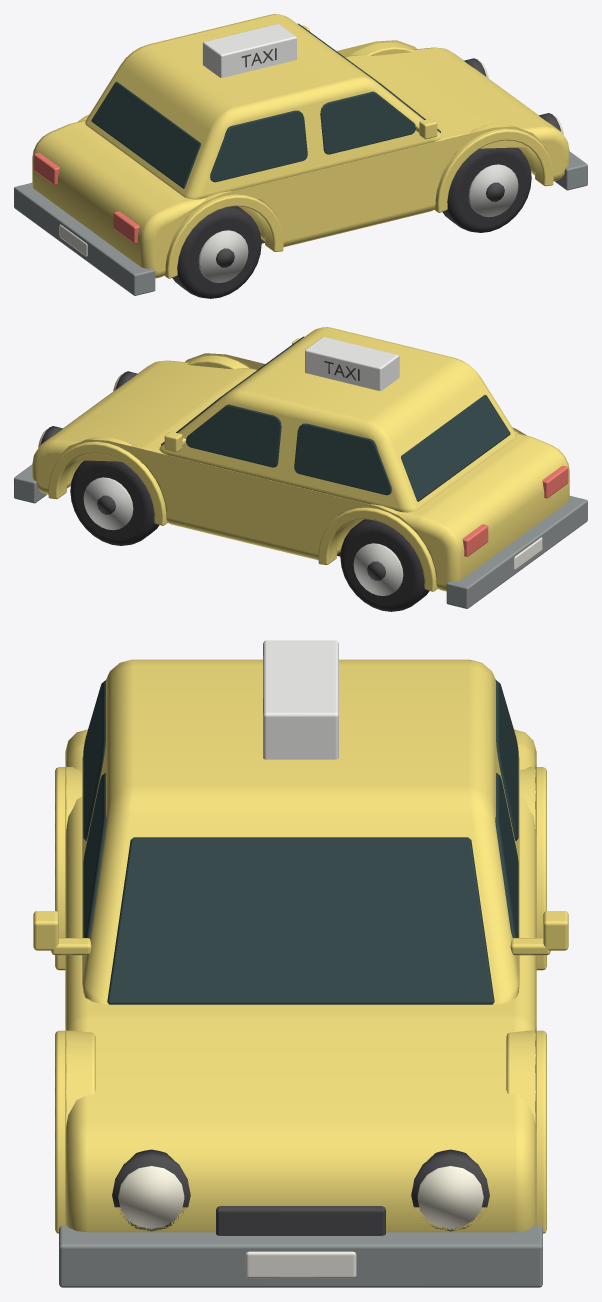
Rendered from taxi.glb.
3 views of the same model, one above another, from view 1: azimuth 30°, elevation 25°; view 2: azimuth 150°, elevation 25°; view 3: azimuth 270°, elevation 25° (orthographic). The views are drawn at different scales.
Visible parts, largest first — view 1: taxi_body, taxi_trim, taxi_glass, taxi_wheels, taxi_round; view 2: taxi_body, taxi_trim, taxi_glass, taxi_wheels, taxi_round; view 3: taxi_body, taxi_glass, taxi_trim, taxi_round.
Part boxes in pixels (bbox=[...]): taxi_body: bbox=[32, 14, 569, 278]; taxi_trim: bbox=[14, 24, 587, 295]; taxi_glass: bbox=[91, 23, 440, 188]; taxi_wheels: bbox=[172, 147, 531, 298]; taxi_round: bbox=[198, 58, 563, 282]; taxi_body: bbox=[32, 327, 569, 591]; taxi_trim: bbox=[14, 337, 587, 608]; taxi_glass: bbox=[161, 336, 510, 501]; taxi_wheels: bbox=[70, 460, 429, 611]; taxi_round: bbox=[38, 371, 403, 595]; taxi_body: bbox=[65, 659, 536, 1232]; taxi_glass: bbox=[83, 679, 518, 1004]; taxi_trim: bbox=[33, 640, 568, 1287]; taxi_round: bbox=[112, 1149, 489, 1231].
Size of the model in its own units: 4.16 by 1.73 by 2.11.
